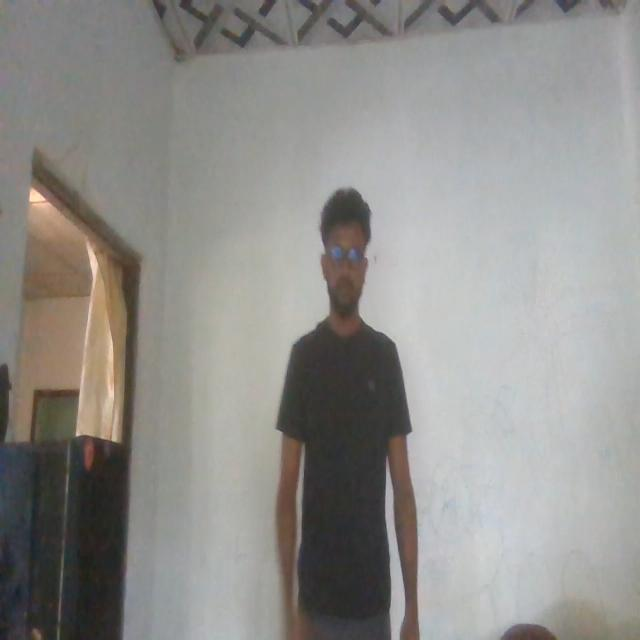Person: (277, 172, 415, 640)
